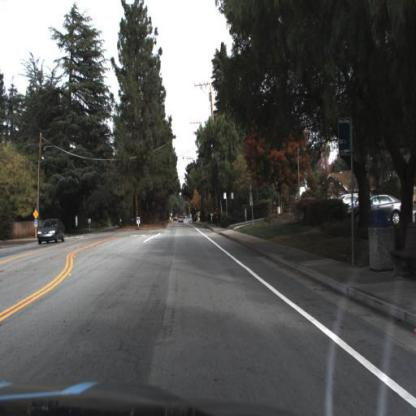car: (38, 219, 66, 249), (178, 215, 186, 228)
